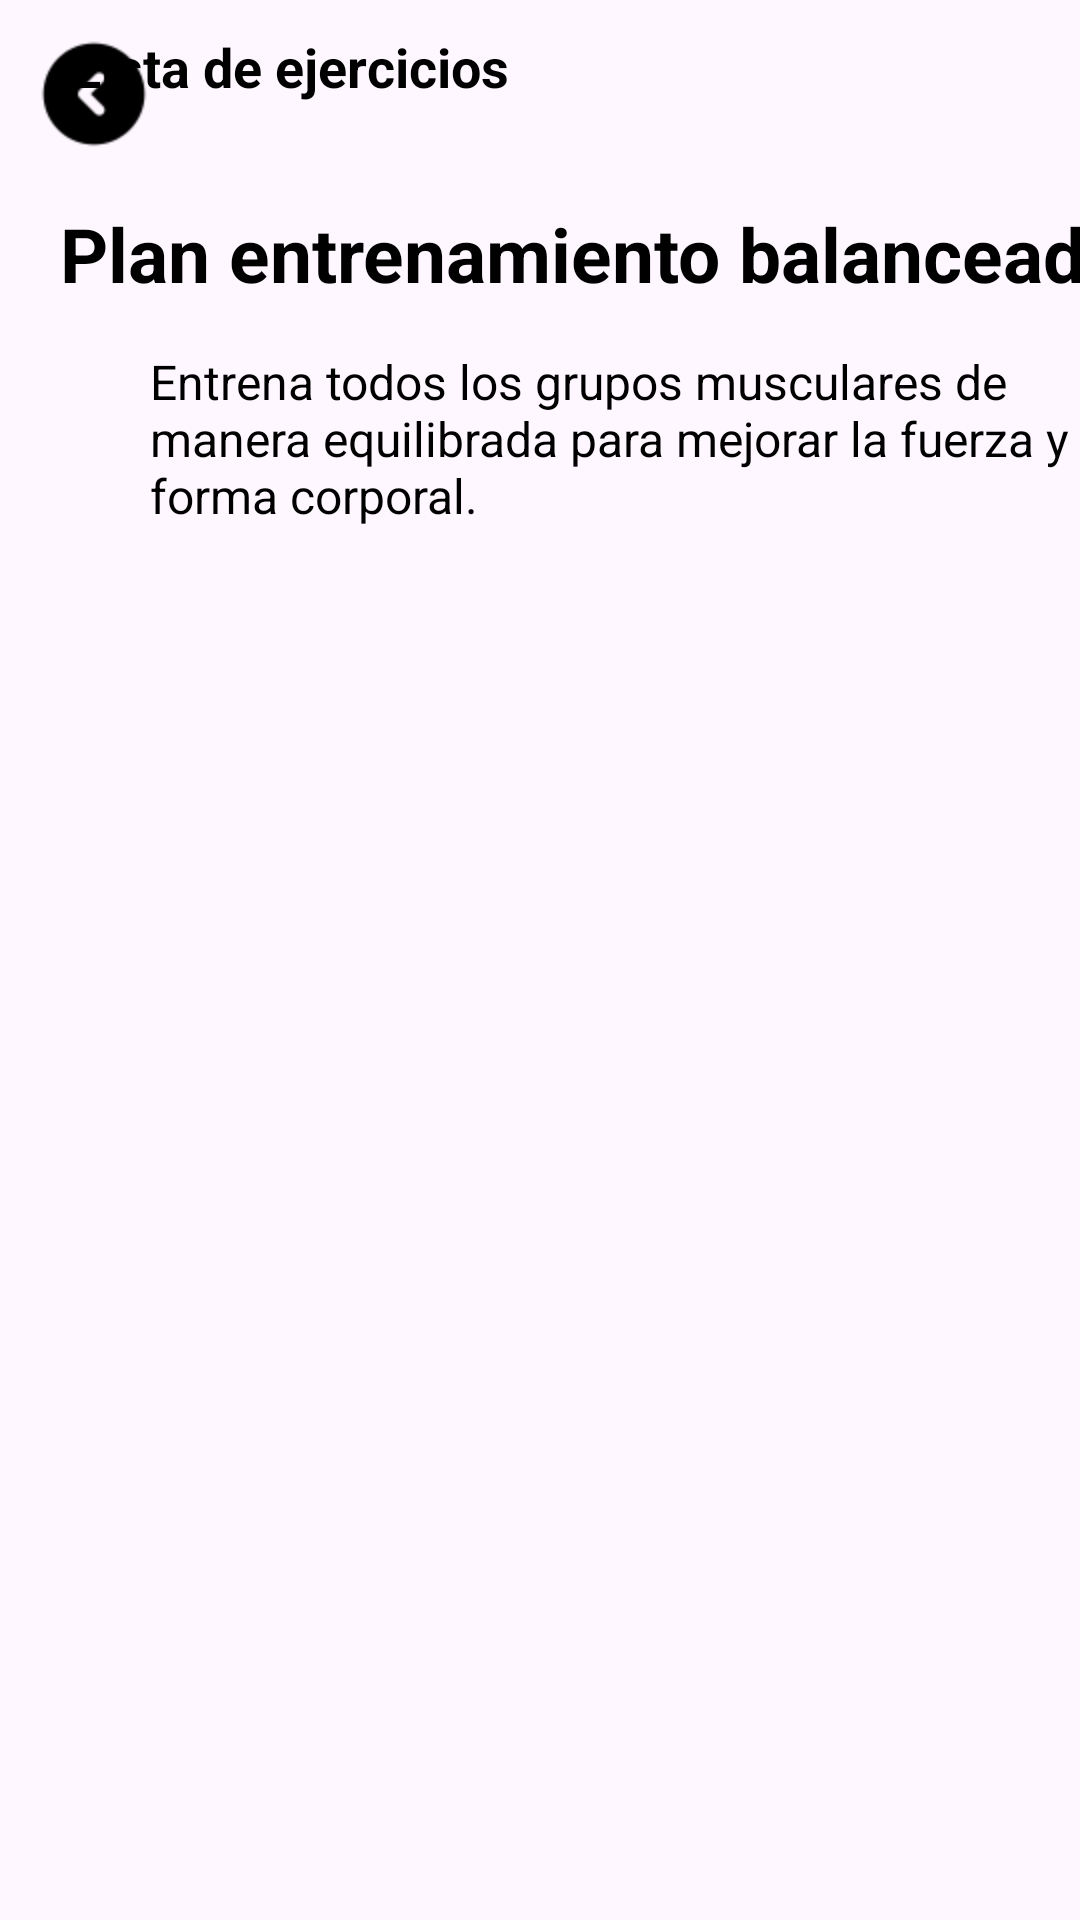

Icons on this 1080x1920 Android screen, each with the point to tap as point (x, y):
flecha: point (100, 94)
